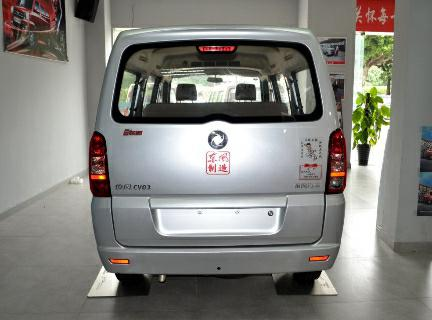东风-俊风CV03: (80, 21, 354, 293)
